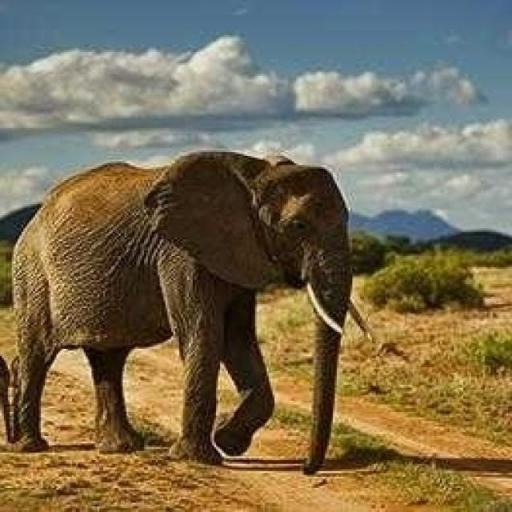Elephant: (4, 148, 374, 474)
